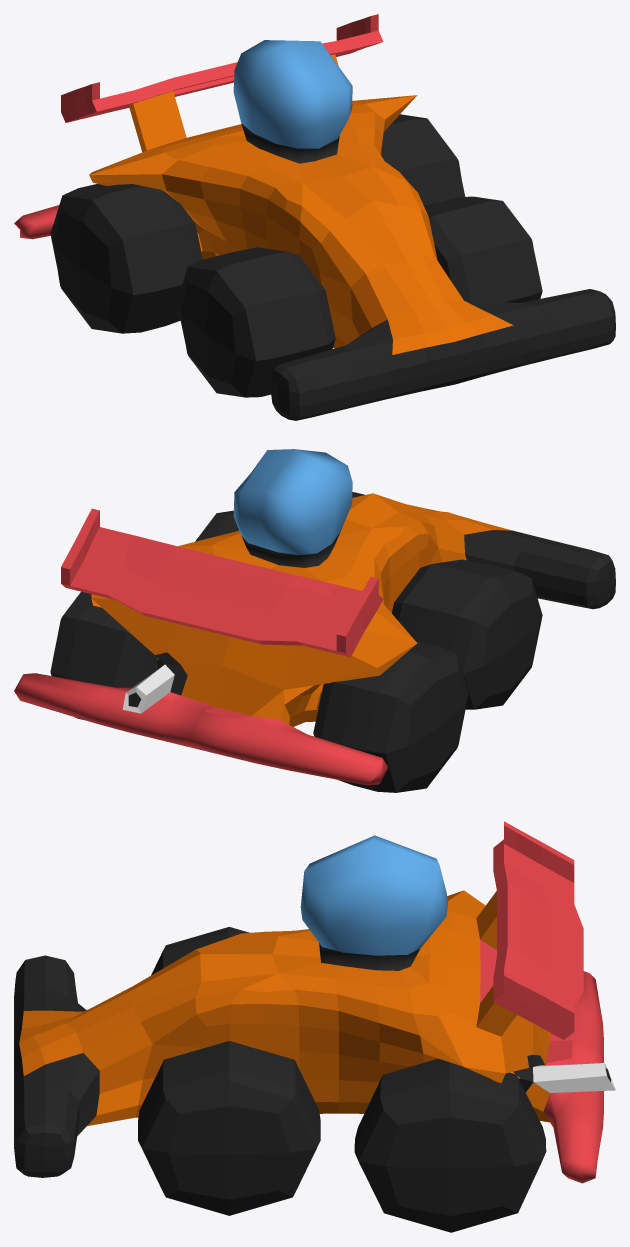
File: player.glb
3 views of the same model, one above another, from view 1: azimuth 30°, elevation 25°; view 2: azimuth 150°, elevation 25°; view 3: azimuth 270°, elevation 25° (orthographic). The views are drawn at different scales.
Parts seen in each view (by area): view 1: Player; view 2: Player; view 3: Player.
Part boxes in pixels (box(x1,y1,x2,y2)): Player: box(14, 14, 615, 420); Player: box(14, 449, 615, 792); Player: box(14, 821, 615, 1232).
Size of the model in its own units: 0.0482 by 0.0352 by 0.0632.
